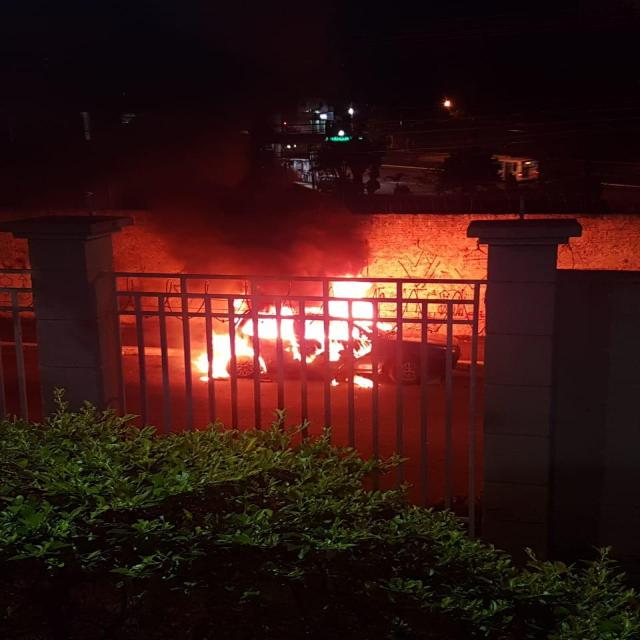Fire: (232, 278, 408, 360), (192, 329, 263, 383), (353, 375, 373, 388), (332, 379, 339, 387)
